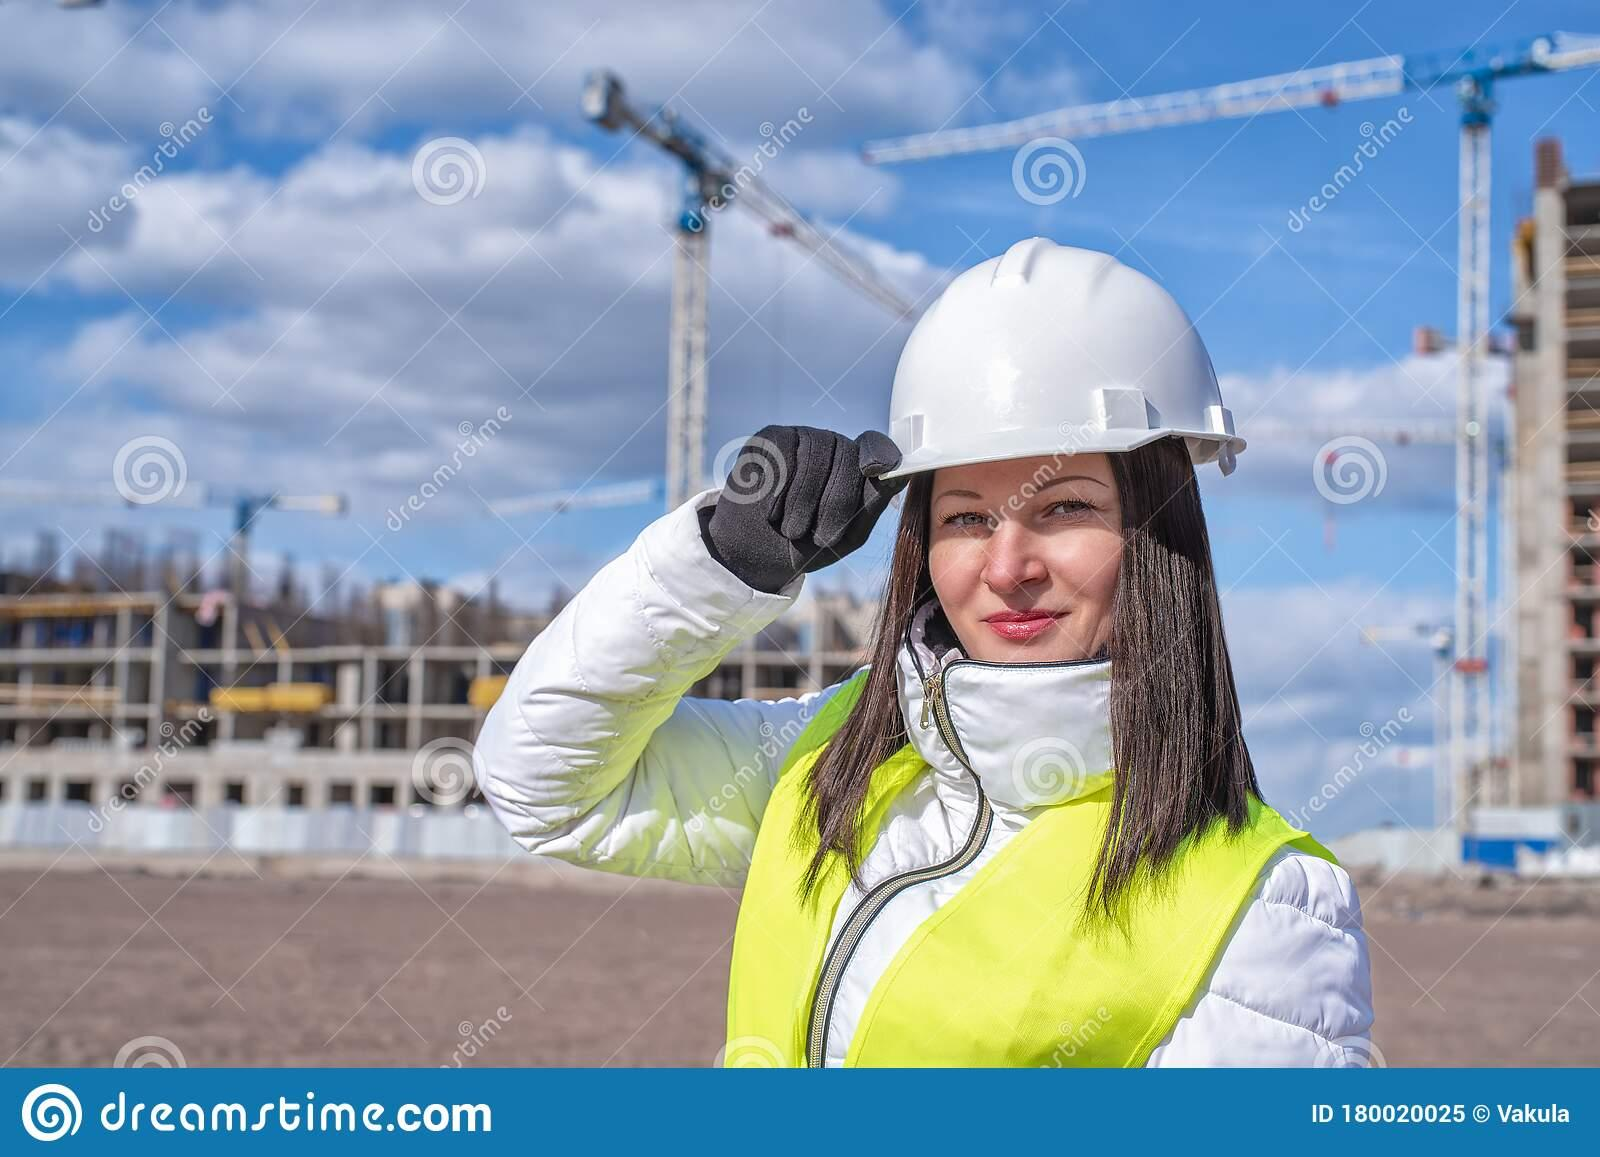hat: (798, 171, 1258, 534)
vest: (658, 601, 1398, 1068)
